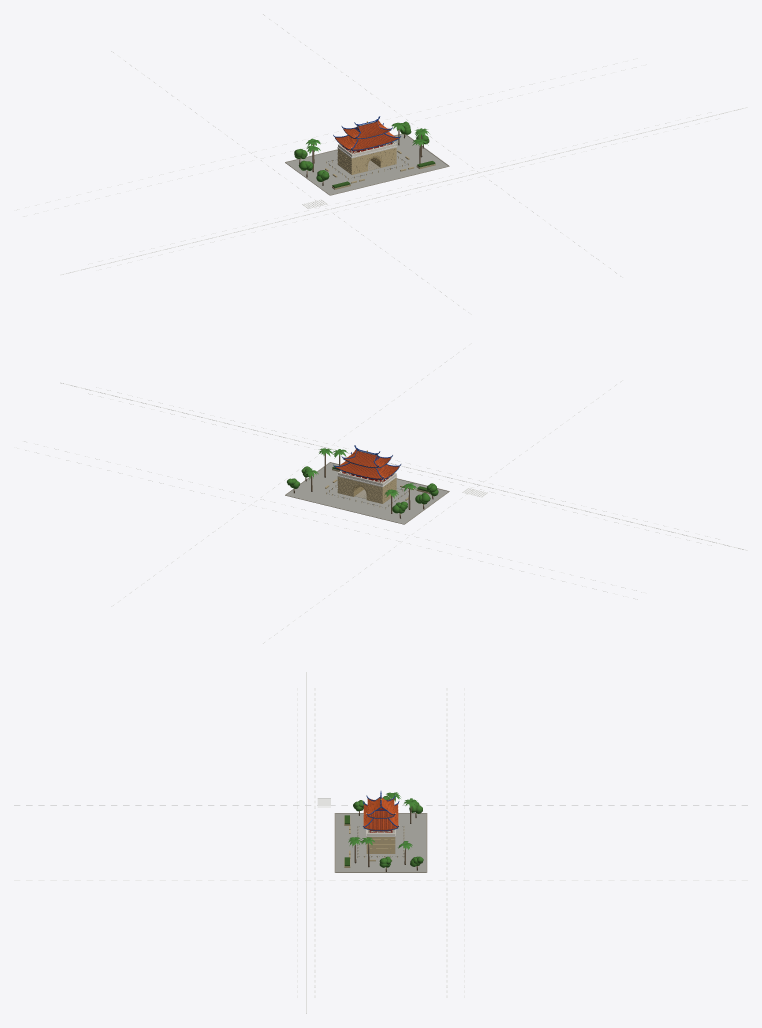
Rendered from east_gate.glb.
3 views of the same model, one above another, from view 1: azimuth 30°, elevation 25°; view 2: azimuth 150°, elevation 25°; view 3: azimuth 270°, elevation 25° (orthographic).
Parts seen in each view (by area): view 1: 00_paving, 00_marking, 02_sandstone, 12_tree_leaf, 08_tile; view 2: 00_paving, 00_marking, 02_sandstone, 12_tree_leaf, 08_tile; view 3: 00_paving, 00_marking.
Part boxes in pixels (x1=…): 00_paving: x1=286, y1=134, x2=447, y2=194; 00_marking: x1=14, y1=14, x2=747, y2=314; 02_sandstone: x1=337, y1=147, x2=396, y2=174; 12_tree_leaf: x1=294, y1=121, x2=429, y2=181; 08_tile: x1=336, y1=132, x2=398, y2=149; 00_paving: x1=286, y1=463, x2=447, y2=523; 00_marking: x1=14, y1=343, x2=747, y2=643; 02_sandstone: x1=337, y1=476, x2=396, y2=503; 12_tree_leaf: x1=287, y1=466, x2=438, y2=513; 08_tile: x1=336, y1=461, x2=398, y2=478; 00_paving: x1=335, y1=813, x2=426, y2=871; 00_marking: x1=14, y1=672, x2=747, y2=1013.
Size of what is drawn, in the model's own units: 300 by 18.9 by 272.
